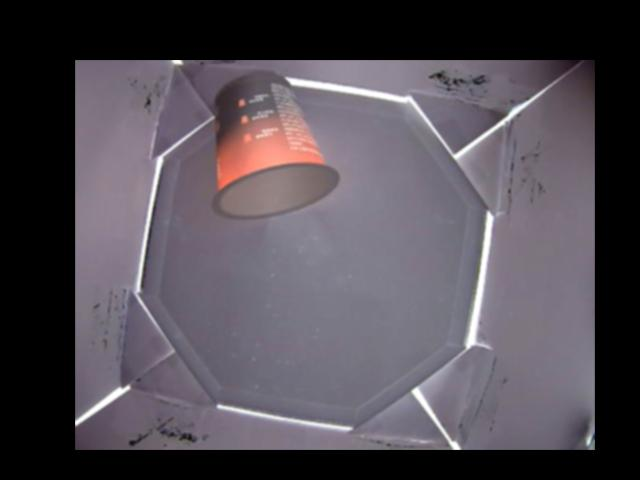Cup: (210, 69, 339, 223)
